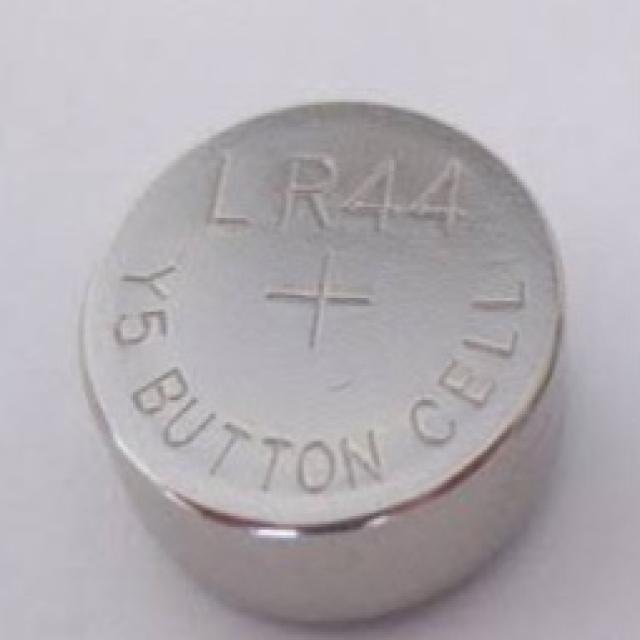battery: (38, 44, 640, 637)
